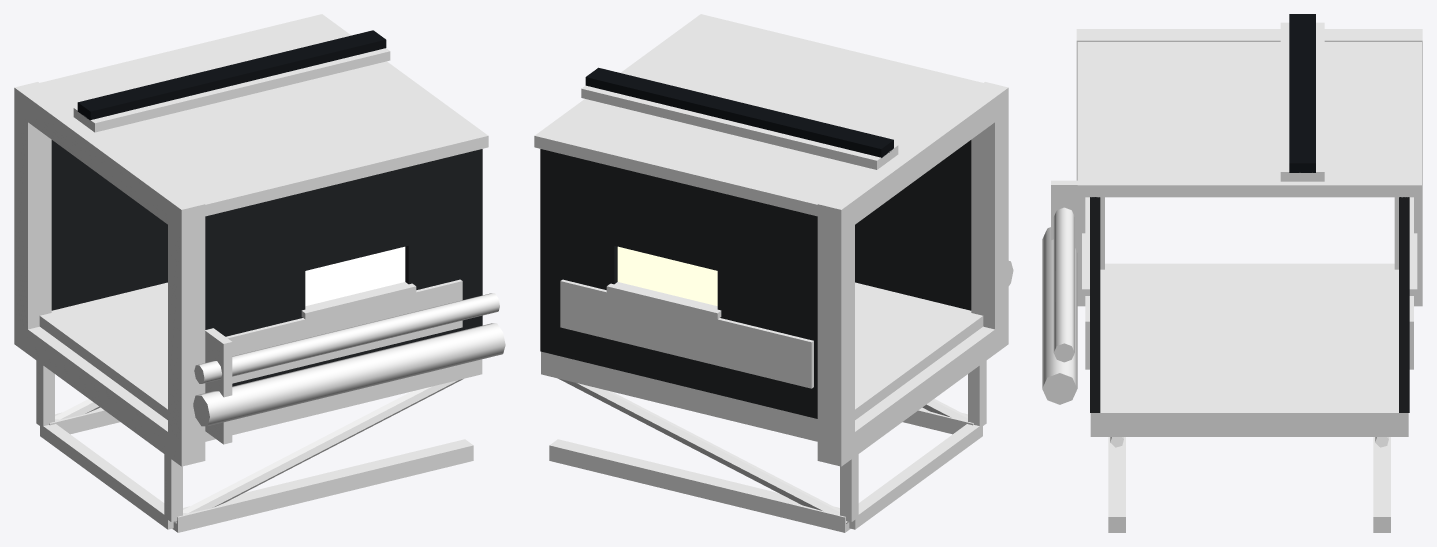
The model's file is skybridge_window.gltf.
3 renders of one model, left to right at view 1: azimuth 30°, elevation 25°; view 2: azimuth 150°, elevation 25°; view 3: azimuth 270°, elevation 25°, orthographic. The views are drawn at different scales.
Visible parts, largest first — view 1: steel, graphite, sheet, titanium, detail_olive, detail_dark, hazard, interior, detail_steel; view 2: steel, graphite, sheet, detail_olive, detail_dark, interior; view 3: steel, sheet, graphite, detail_dark, titanium, hazard, detail_steel, detail_olive.
Part boxes in pixels (x1=…): steel: x1=14, y1=48, x2=482, y2=532; graphite: x1=51, y1=140, x2=482, y2=386; sheet: x1=40, y1=14, x2=488, y2=216; titanium: x1=193, y1=323, x2=505, y2=426; detail_olive: x1=226, y1=279, x2=462, y2=383; detail_dark: x1=77, y1=30, x2=386, y2=120; hazard: x1=194, y1=293, x2=499, y2=383; interior: x1=305, y1=246, x2=405, y2=306; detail_steel: x1=205, y1=328, x2=232, y2=444; steel: x1=541, y1=82, x2=1008, y2=532; graphite: x1=540, y1=140, x2=971, y2=418; sheet: x1=534, y1=14, x2=982, y2=216; detail_olive: x1=560, y1=279, x2=813, y2=388; detail_dark: x1=585, y1=67, x2=893, y2=157; interior: x1=617, y1=246, x2=717, y2=305; steel: x1=1076, y1=22, x2=1422, y2=532; sheet: x1=1077, y1=42, x2=1421, y2=197; graphite: x1=1090, y1=197, x2=1409, y2=412; detail_dark: x1=1289, y1=14, x2=1315, y2=172; titanium: x1=1042, y1=227, x2=1077, y2=404; hazard: x1=1053, y1=207, x2=1074, y2=362; detail_steel: x1=1051, y1=180, x2=1085, y2=288; detail_olive: x1=1085, y1=197, x2=1413, y2=369.
Bounding box in the file's own units: 4.18 × 4.62 × 4.31.
